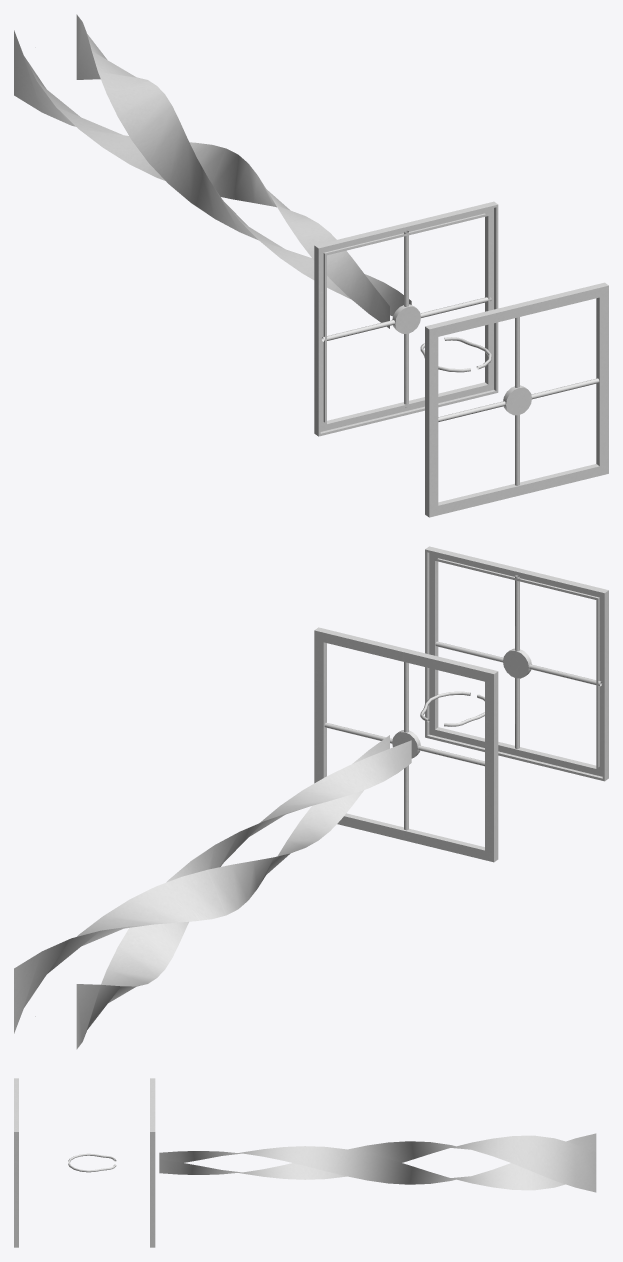
Rendered from MeshFloorLamp_20_0_GeomSubset_1.obj.
3 views of the same model, one above another, from view 1: azimuth 30°, elevation 25°; view 2: azimuth 150°, elevation 25°; view 3: azimuth 270°, elevation 25° (orthographic). The views are drawn at different scales.
Visible parts, largest first — view 1: MeshFloorLamp_20_0_GeomSubset_1; view 2: MeshFloorLamp_20_0_GeomSubset_1; view 3: MeshFloorLamp_20_0_GeomSubset_1.
Boxes of the visible parts, x1,y1,x2,y2 form: MeshFloorLamp_20_0_GeomSubset_1: (14,14,608,517); MeshFloorLamp_20_0_GeomSubset_1: (14,546,608,1049); MeshFloorLamp_20_0_GeomSubset_1: (14,1078,596,1247).
Size of the model in its own units: 0.4054 by 0.4054 by 1.89.
